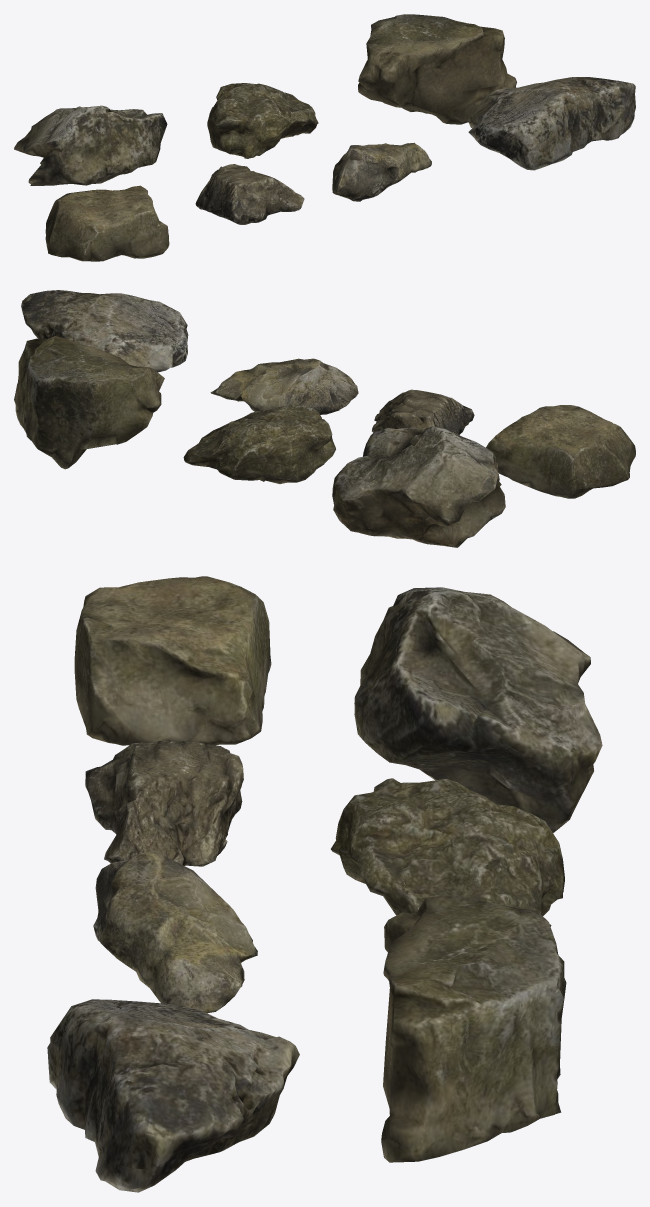
File: rock_moss_set_02.glb
3 views of the same model, one above another, from view 1: azimuth 30°, elevation 25°; view 2: azimuth 150°, elevation 25°; view 3: azimuth 270°, elevation 25° (orthographic). The views are drawn at different scales.
Visible parts, largest first — view 1: rock_moss_set_02_rock13, rock_moss_set_02_rock10, rock_moss_set_02_rock11, rock_moss_set_02_rock07, rock_moss_set_02_rock12, rock_moss_set_02_rock08, rock_moss_set_02_rock09; view 2: rock_moss_set_02_rock11, rock_moss_set_02_rock13, rock_moss_set_02_rock07, rock_moss_set_02_rock10, rock_moss_set_02_rock12, rock_moss_set_02_rock09, rock_moss_set_02_rock08; view 3: rock_moss_set_02_rock13, rock_moss_set_02_rock11, rock_moss_set_02_rock10, rock_moss_set_02_rock07, rock_moss_set_02_rock12, rock_moss_set_02_rock09, rock_moss_set_02_rock08.
Part boxes in pixels (x1,y1,x2,y2): rock_moss_set_02_rock13: (358, 14, 516, 124); rock_moss_set_02_rock10: (468, 77, 635, 170); rock_moss_set_02_rock11: (14, 105, 167, 185); rock_moss_set_02_rock07: (45, 185, 169, 261); rock_moss_set_02_rock12: (207, 83, 318, 158); rock_moss_set_02_rock08: (195, 164, 304, 224); rock_moss_set_02_rock09: (332, 142, 431, 201); rock_moss_set_02_rock11: (332, 426, 505, 547); rock_moss_set_02_rock13: (14, 336, 164, 469); rock_moss_set_02_rock07: (486, 405, 635, 498); rock_moss_set_02_rock10: (21, 290, 188, 372); rock_moss_set_02_rock12: (183, 406, 335, 483); rock_moss_set_02_rock09: (210, 358, 358, 414); rock_moss_set_02_rock08: (372, 389, 474, 434); rock_moss_set_02_rock13: (381, 894, 566, 1162); rock_moss_set_02_rock11: (354, 587, 602, 832); rock_moss_set_02_rock10: (47, 999, 299, 1192); rock_moss_set_02_rock07: (74, 576, 271, 745); rock_moss_set_02_rock12: (331, 778, 564, 926); rock_moss_set_02_rock09: (93, 851, 257, 1013); rock_moss_set_02_rock08: (85, 740, 243, 866).
Bounding box in the file's own units: 8.28 × 1.36 × 3.41.
Materials: 1 (1 with a texture image).
